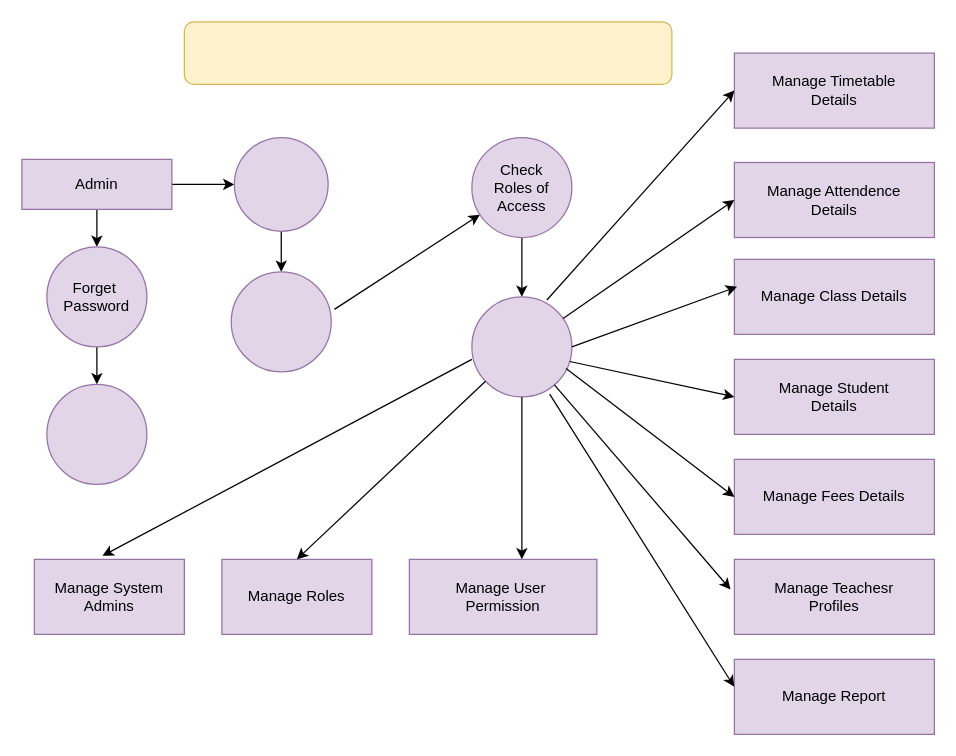
Some shapes in this 956 by 756 pixel diagram are drawn without their labels. Each missing label, with the centre of its shape:
Check Credentials: (280,321)
Login to System: (280,183)
Manage Modules: (521,346)
Send email to user: (96,433)
Student Information System: (427,52)
